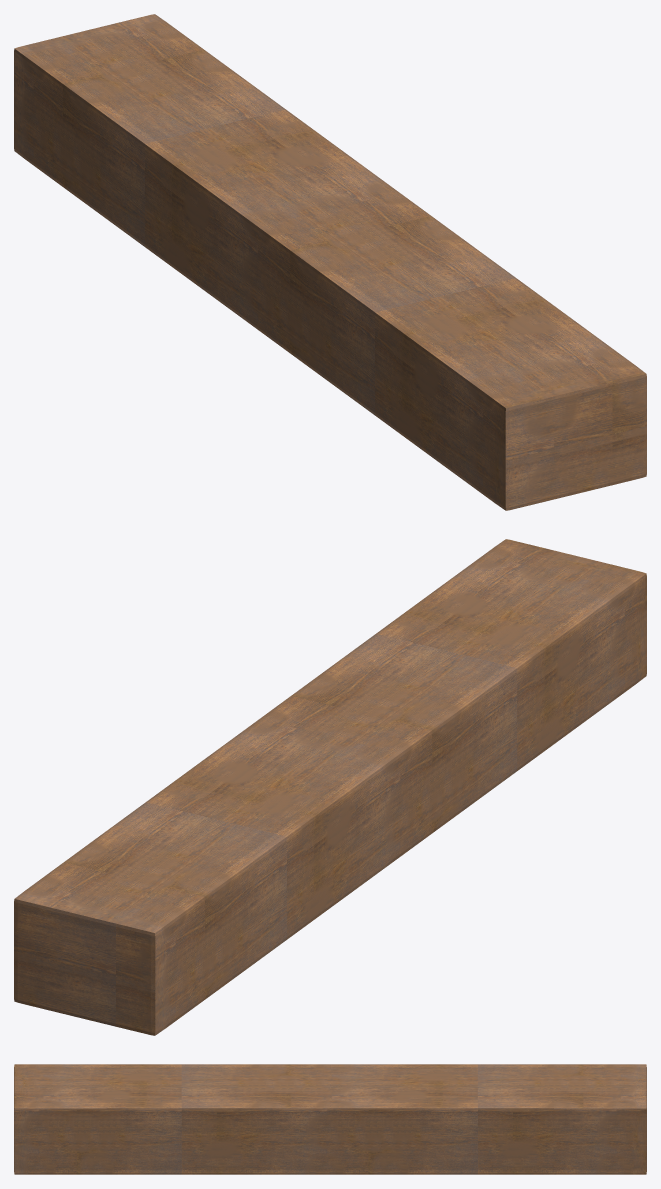
The model's file is Beam01.fbx.
3 views of the same model, one above another, from view 1: azimuth 30°, elevation 25°; view 2: azimuth 150°, elevation 25°; view 3: azimuth 270°, elevation 25° (orthographic). The views are drawn at different scales.
Parts seen in each view (by area): view 1: Beam01; view 2: Beam01; view 3: Beam01.
Part boxes in pixels (<box>): Beam01: <box>14,14,646,510</box>; Beam01: <box>14,539,646,1035</box>; Beam01: <box>14,1064,646,1174</box>.
Size of the model in its own units: 100 by 70 by 600.
